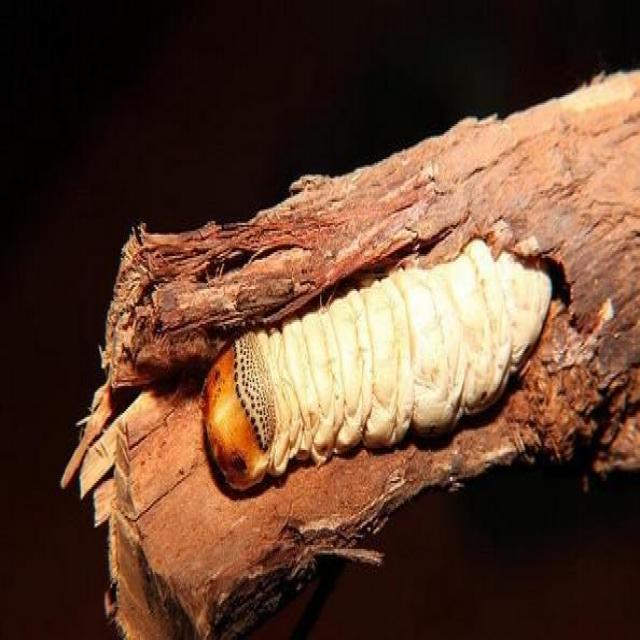Grub-Adult-: (188, 230, 554, 492)
